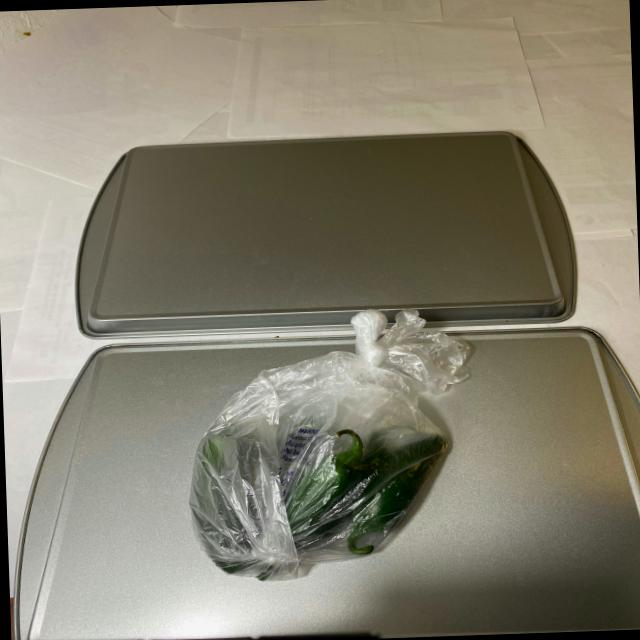chilli: (179, 392, 461, 578)
